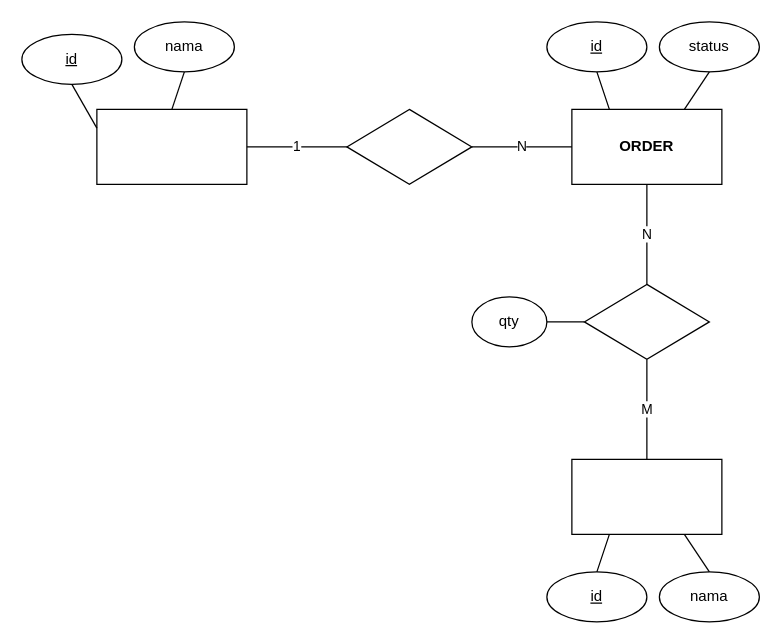
The diagram is 781 pixels wide and 644 high, and some of its shapes have lost their labels. The centre of each missing label's shape, as x and y in pixels:
Berisi: point (646, 321)
Melakukan: point (409, 146)
PRODUK: point (646, 496)
USER: point (171, 146)
